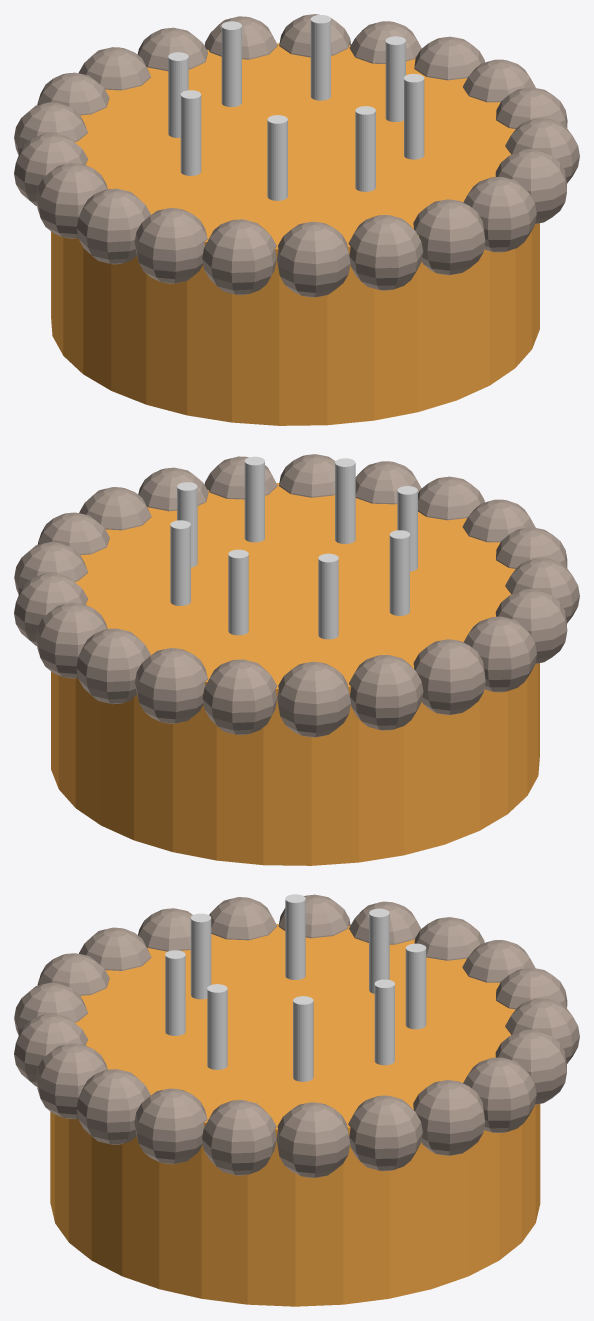
Rendered from cake.gltf.
3 renders of one model, top to bottom at view 1: azimuth 30°, elevation 25°; view 2: azimuth 150°, elevation 25°; view 3: azimuth 270°, elevation 25°, orthographic.
Parts seen in each view (by area): view 1: Cylinder, Sphere, Cylinder.001; view 2: Cylinder, Sphere, Cylinder.001; view 3: Cylinder, Sphere, Cylinder.001.
Boxes of the visible parts, x1,y1,x2,y2 form: Cylinder: [51, 43, 539, 425]; Sphere: [14, 14, 579, 297]; Cylinder.001: [168, 15, 424, 200]; Cylinder: [51, 483, 539, 865]; Sphere: [14, 454, 579, 737]; Cylinder.001: [170, 456, 417, 639]; Cylinder: [50, 924, 540, 1306]; Sphere: [14, 894, 579, 1177]; Cylinder.001: [165, 894, 426, 1081].
Size of the model in its own units: 2.32 by 1.14 by 2.31.
3 materials, 1 textured.
